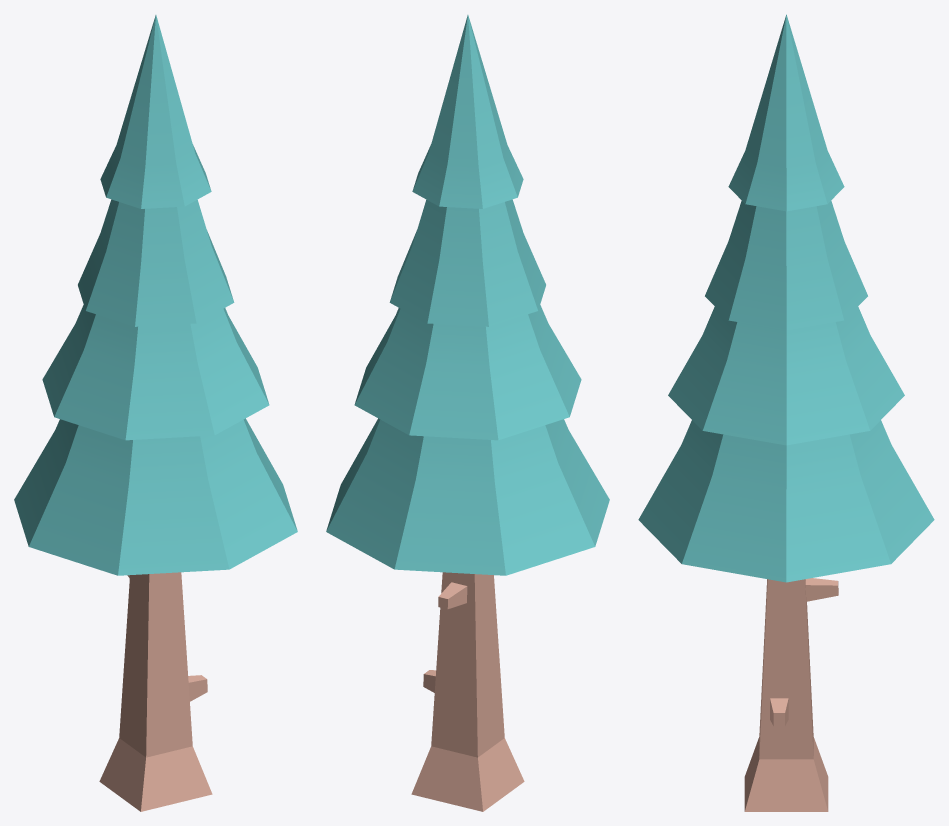
Rendered from tree_pineDefaultA.glb.
3 views of the same model, side by side, from view 1: azimuth 30°, elevation 25°; view 2: azimuth 150°, elevation 25°; view 3: azimuth 270°, elevation 25° (orthographic).
Visible parts, largest first — view 1: tree_pineDefaultA; view 2: tree_pineDefaultA; view 3: tree_pineDefaultA.
Boxes of the visible parts, x1,y1,x2,y2 form: tree_pineDefaultA: [14, 15, 297, 811]; tree_pineDefaultA: [326, 15, 609, 811]; tree_pineDefaultA: [638, 14, 934, 811].
Bounding box in the file's own units: 0.532 × 1.55 × 0.532.
